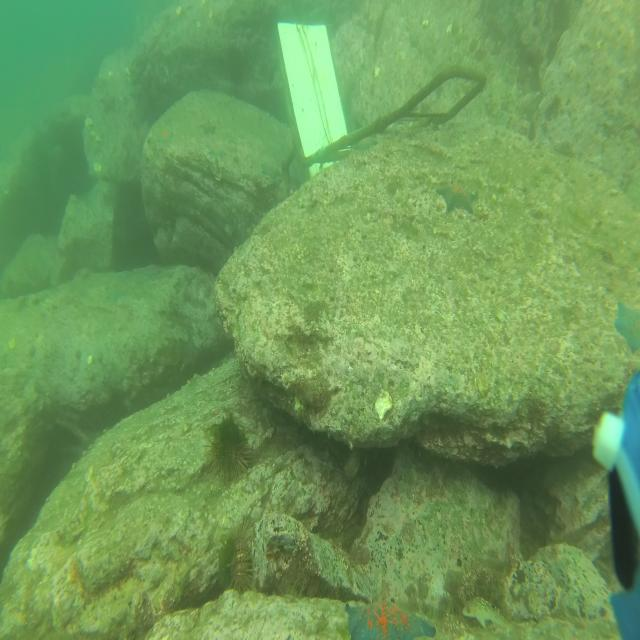echinus: (204, 417, 256, 485), (224, 513, 260, 598)
starfish: (344, 596, 438, 640), (436, 177, 478, 216), (613, 300, 640, 357), (178, 332, 216, 371), (259, 159, 283, 183), (206, 137, 227, 161), (99, 88, 118, 114), (352, 136, 380, 153), (156, 121, 174, 146), (199, 116, 217, 135)
